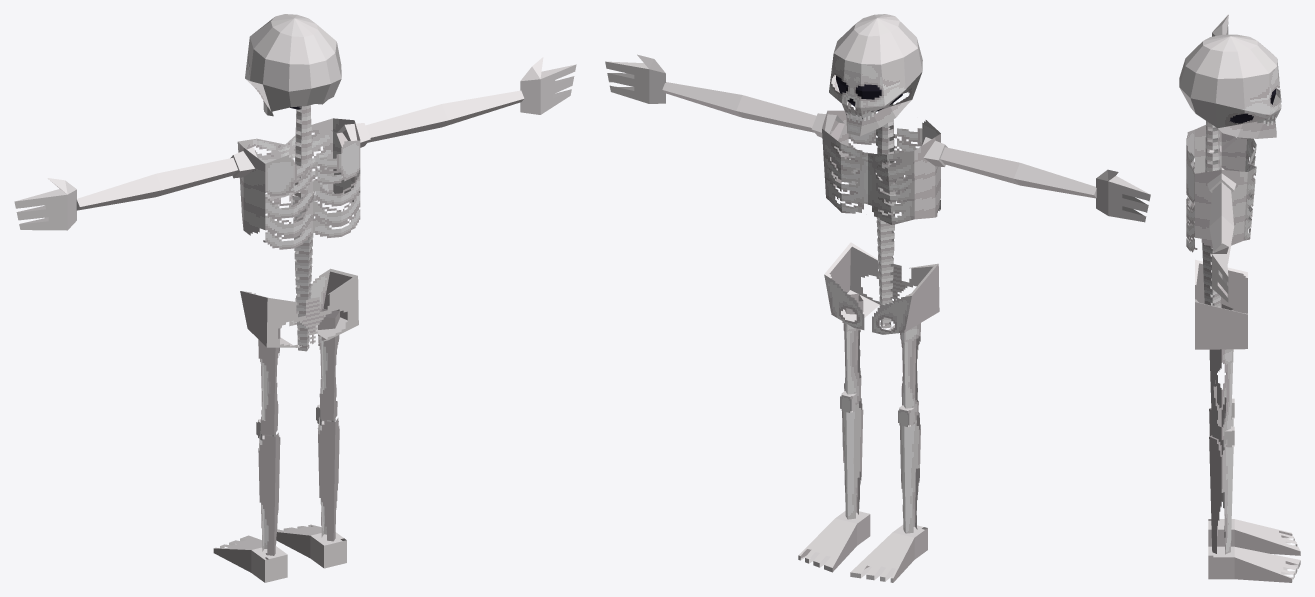
The model's file is spookyscaryreallyskeleton.gltf.
The picture shows the model from 3 angles, left to right: view 1: azimuth 30°, elevation 25°; view 2: azimuth 150°, elevation 25°; view 3: azimuth 270°, elevation 25°; orthographic projection. The views are drawn at different scales.
Visible parts, largest first — view 1: cuboid (×16), sphere; view 2: cuboid (×15), sphere; view 3: cuboid (×15), sphere (×2).
Boxes of the visible parts, box(x1,y1,x2,y2) form: cuboid (×16): box(14, 57, 576, 582); sphere: box(245, 14, 341, 116); cuboid (×15): box(605, 54, 1150, 582); sphere: box(829, 14, 922, 136); cuboid (×15): box(1186, 14, 1300, 582); sphere (×2): box(1179, 34, 1281, 138).
Size of the model in its own units: 4.42 by 4.11 by 0.8625.
2 materials, 2 textured.
